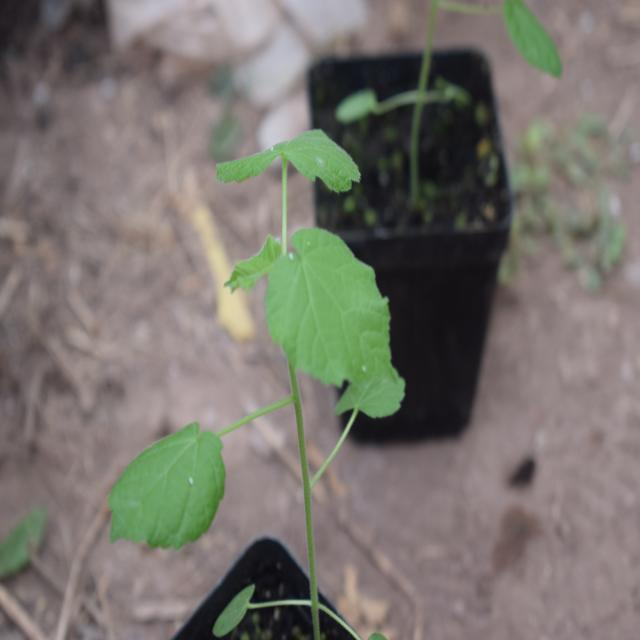abutilon theophrasti: (92, 114, 399, 570)
